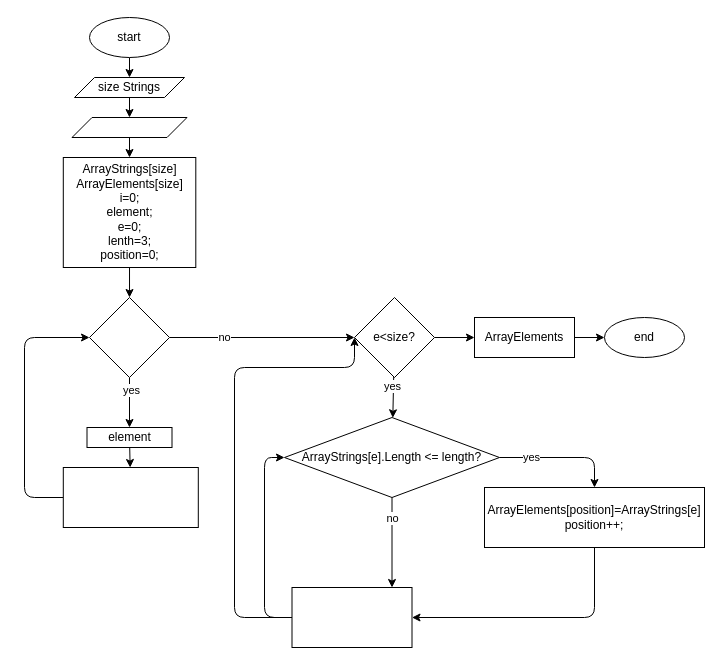
Image size: 722x665. Some labels were removed from this diagram. Here are the shapes that lost their labels. From the top down, the centre of each, then its label:
the point at 129,127: size Elements
the point at 129,337: i<size?
the point at 130,497: ArrayStrings[i]=element i++;
the point at 351,617: e++;
